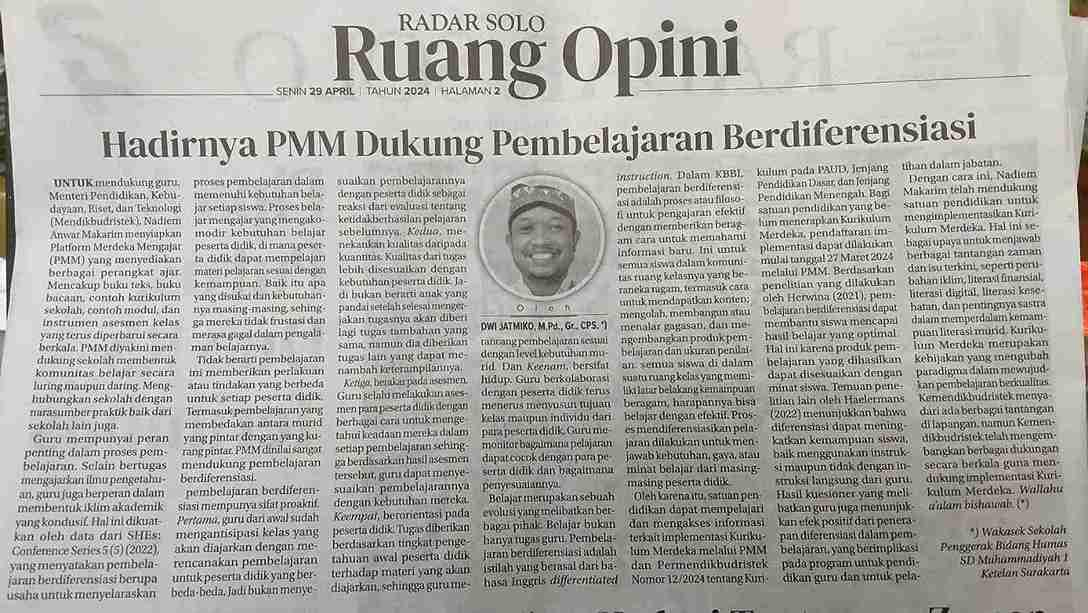Kertas: (17, 0, 1088, 613)
